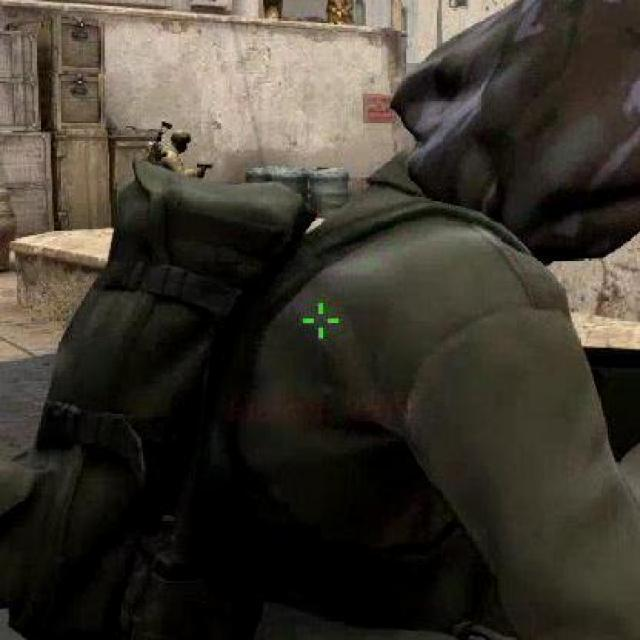CT-Body: (383, 0, 638, 255), (170, 130, 192, 152)
CT-Head: (115, 0, 638, 638), (148, 120, 209, 177)
